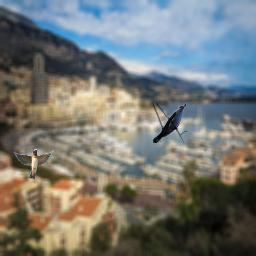Cuckoo: (153, 103, 187, 143)
Swallow: (14, 149, 54, 179)
